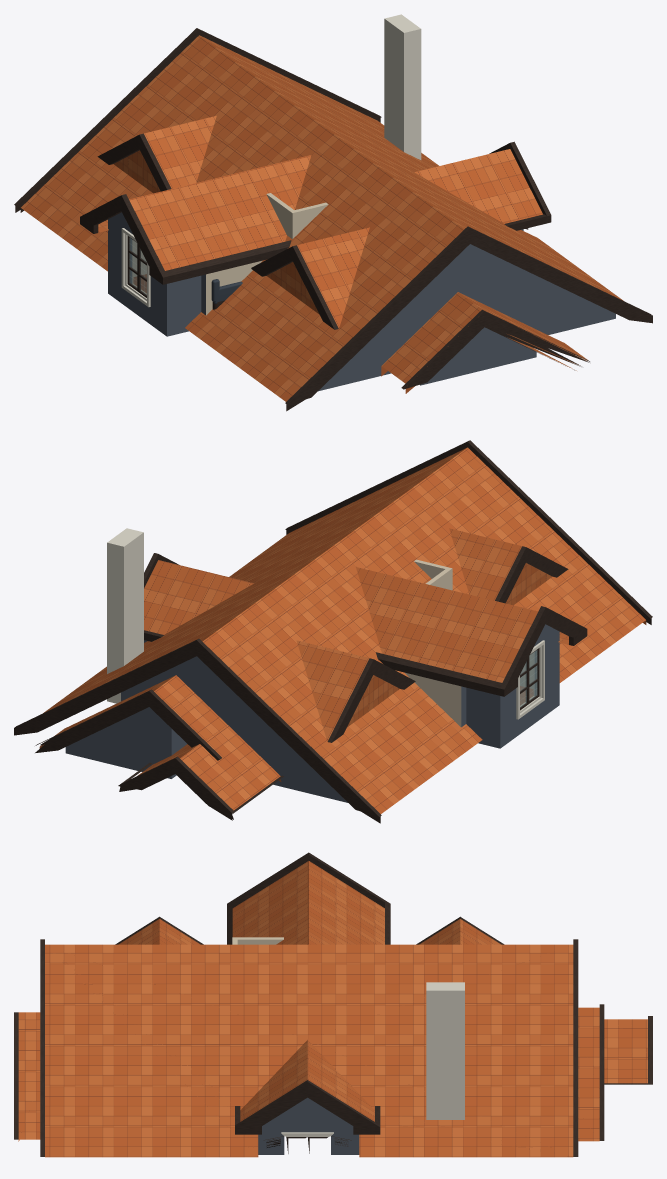
File: villa-f3.glb
3 renders of one model, top to bottom at view 1: azimuth 30°, elevation 25°; view 2: azimuth 150°, elevation 25°; view 3: azimuth 270°, elevation 25°, orthographic.
Visible parts, largest first — view 1: F3 | ÇATII, F3 | ÇATI ALIN, F3 | KAT 3$DUVAR, F3 | ek dalgalar, F3 | PENCERE_KAPI$CEPHE FRAME, F3 | PENCERE_KAPI$CAM, Lift shaft back wall.003; view 2: F3 | ÇATII, F3 | ÇATI ALIN, F3 | KAT 3$DUVAR, F3 | ek dalgalar, F3 | PENCERE_KAPI$CAM, F3 | PENCERE_KAPI$CEPHE FRAME; view 3: F3 | ÇATII, F3 | ÇATI ALIN, F3 | ek dalgalar, F3 | KAT 3$DUVAR.
Part boxes in pixels (x1,y1,x2,y2): F3 | ÇATII: [21, 35, 623, 401]; F3 | ÇATI ALIN: [14, 28, 652, 411]; F3 | KAT 3$DUVAR: [108, 212, 615, 391]; F3 | ek dalgalar: [384, 14, 421, 159]; F3 | PENCERE_KAPI$CEPHE FRAME: [121, 228, 150, 307]; F3 | PENCERE_KAPI$CAM: [129, 237, 146, 295]; Lift shaft back wall.003: [290, 202, 328, 238]; F3 | ÇATII: [39, 447, 646, 813]; F3 | ÇATI ALIN: [14, 440, 652, 823]; F3 | KAT 3$DUVAR: [65, 624, 559, 802]; F3 | ek dalgalar: [107, 528, 143, 703]; F3 | PENCERE_KAPI$CAM: [520, 650, 537, 707]; F3 | PENCERE_KAPI$CEPHE FRAME: [516, 640, 544, 719]; F3 | ÇATII: [18, 861, 647, 1157]; F3 | ÇATI ALIN: [14, 852, 652, 1156]; F3 | ek dalgalar: [426, 982, 464, 1119]; F3 | KAT 3$DUVAR: [258, 1097, 359, 1154].
Bounding box in the file's own units: 11.56 × 5 × 16.46.
Materials: 23 (23 with a texture image).
